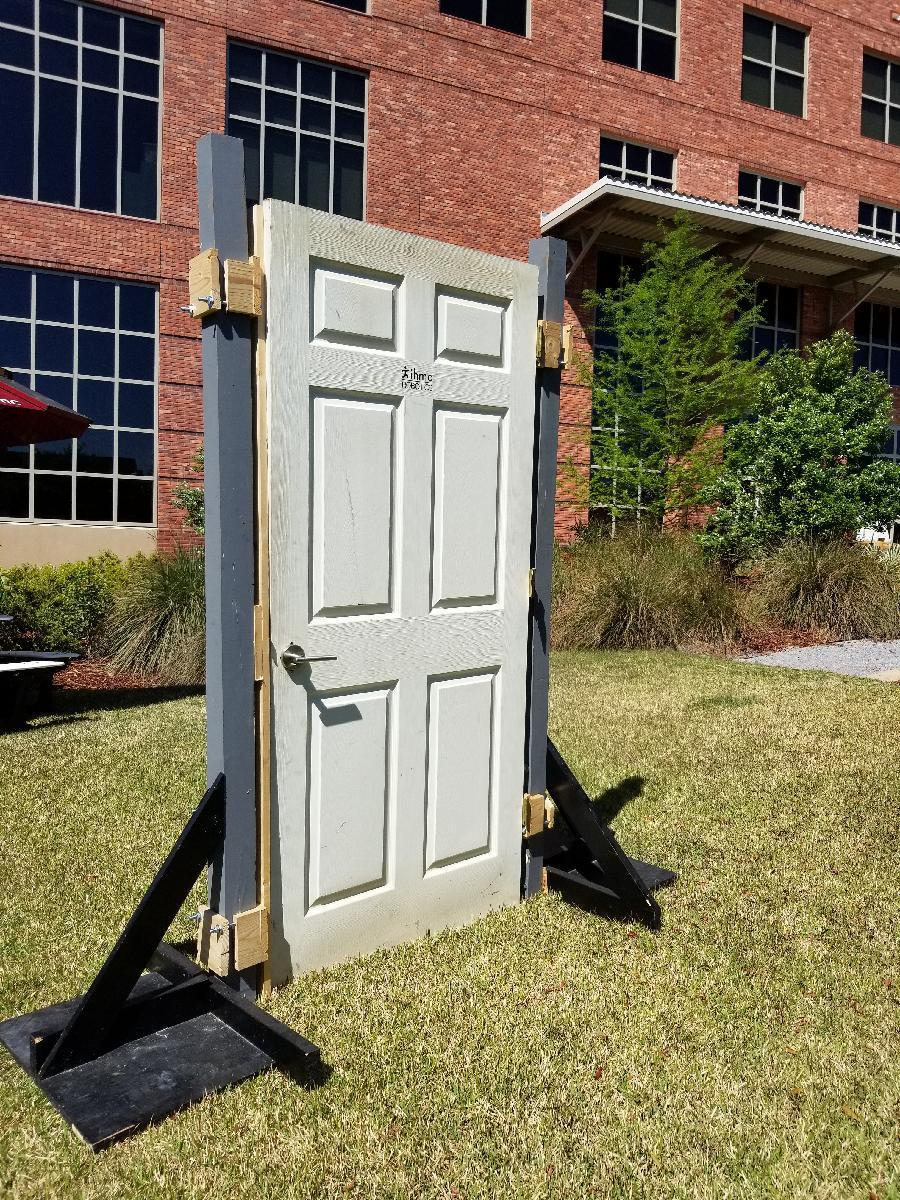door: (268, 195, 532, 950)
handle: (280, 641, 338, 674)
